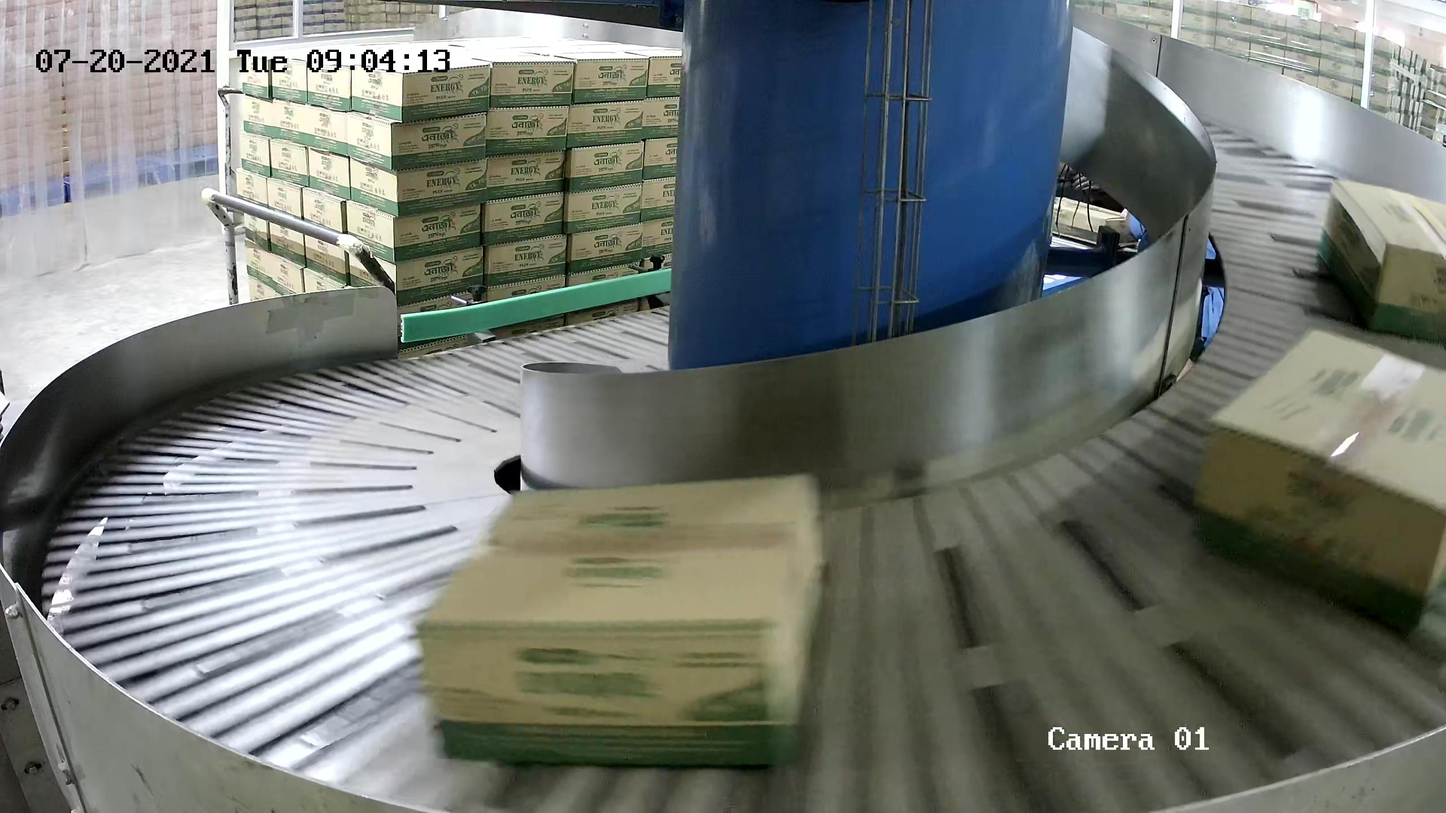Box: (414, 465, 835, 774), (1195, 323, 1446, 646), (1314, 174, 1446, 346)
